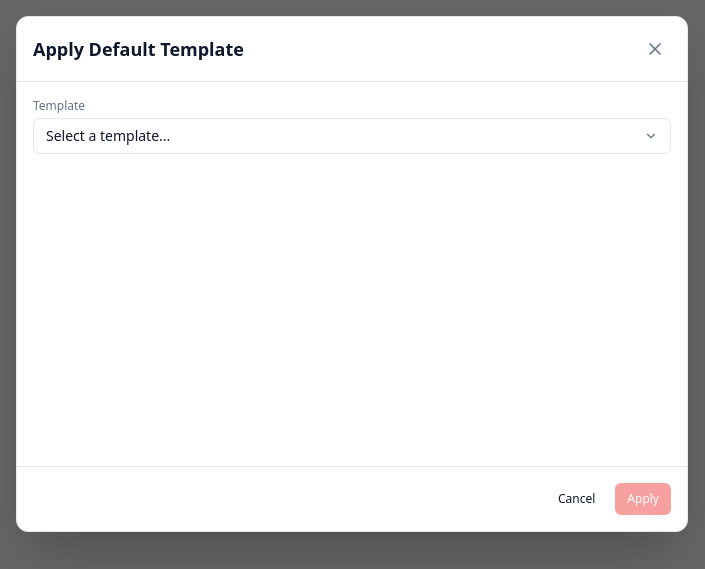
TemplatePickerDialog › with existing prompt › shows warning text when template selected and hasExistingPrompt=true
Expected: the text "Template" is shown, top-left (33, 97), bottom-right (85, 114)
Click the button "Select a template..." at {"x": 108, "y": 136}, box top-left (33, 118), bottom-right (671, 154)
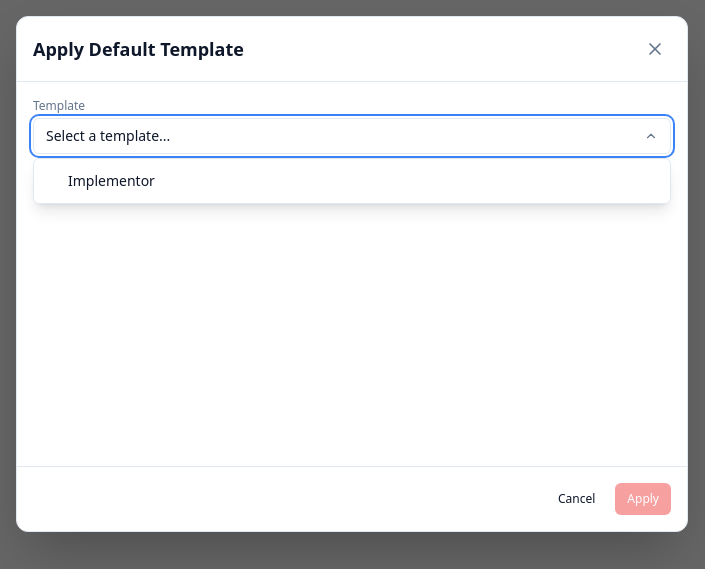
Click the text "Implementor" at {"x": 111, "y": 181}, box top-left (68, 171), bottom-right (155, 191)
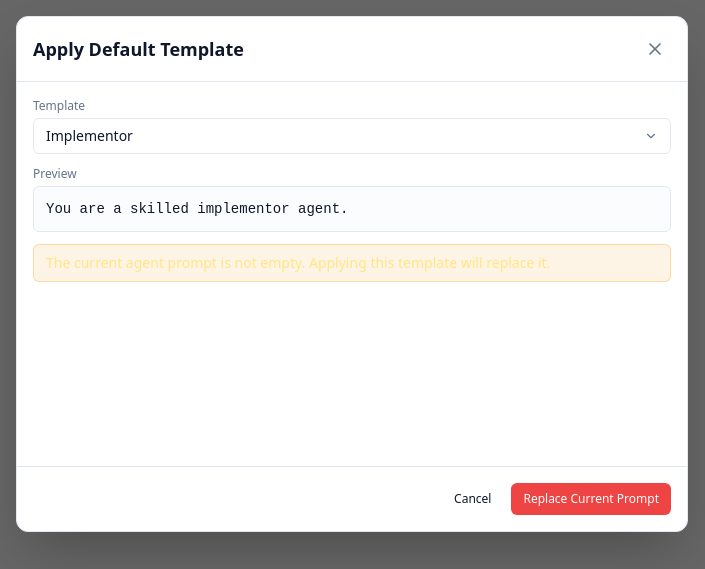
Now the text "current agent prompt is not empty" is shown, box top-left (46, 253), bottom-right (550, 272)
